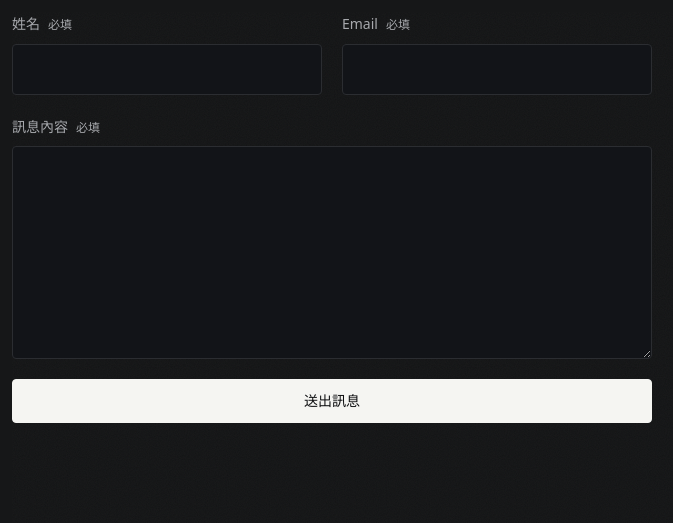
ContactForm › shows the rate-limit copy rather than the generic failure when the server says so
This screenshot has width=673, height=523.
In the field labelled "姓名 必填": (167,69) [12,44,322,95], type "Ada"
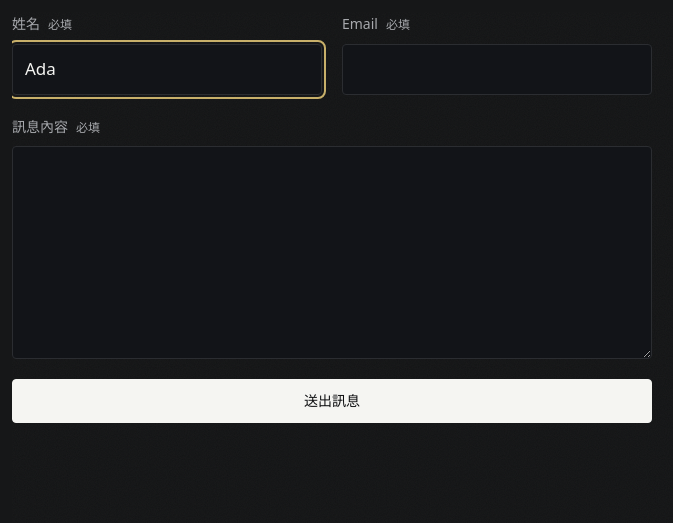
In the field labelled "Email 必填": (497,69) [342,44,652,95], type "ada@example.com"
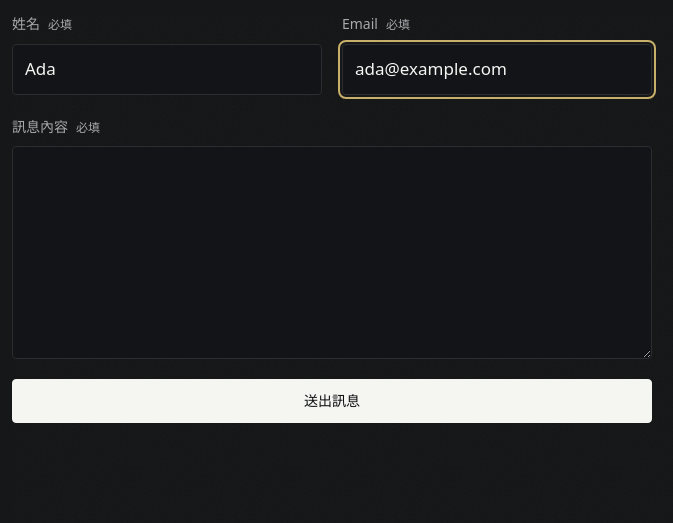
In the text box labelled "訊息內容 必填": (332,253) [12,146,652,359], type "I would like to talk about the search project."
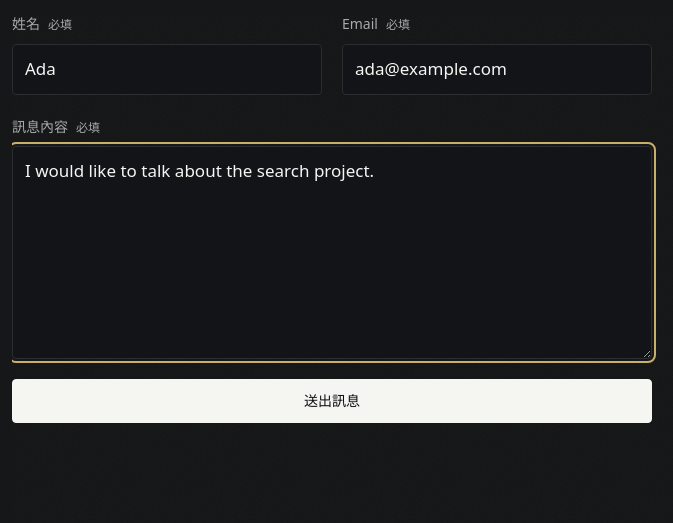
Click the button "送出訊息": (332,401) [12,379,652,423]
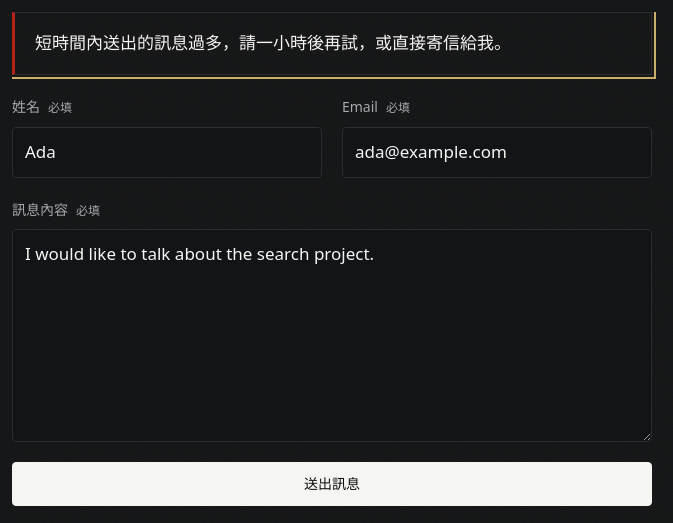
Expected: the message reads "短時間內送出的訊息過多，請一小時後再試，或直接寄信給我。", [35,31,511,54]
